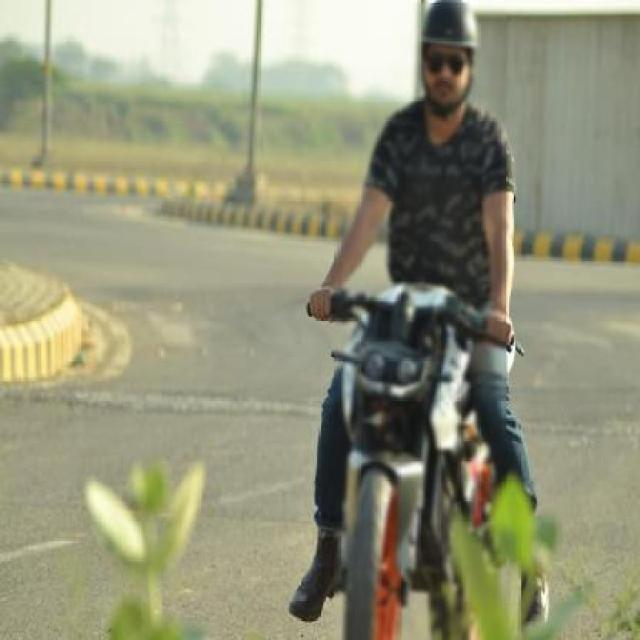helmet: (390, 0, 498, 130)
motorcycle: (297, 1, 640, 640)
